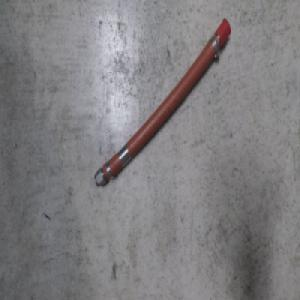Hose: (93, 14, 233, 188)
